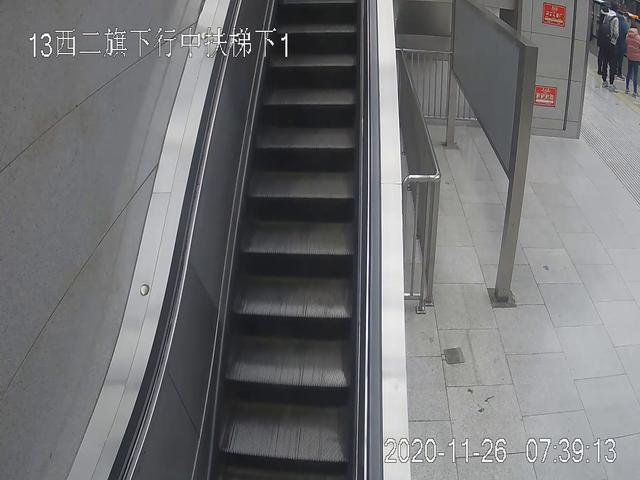person: (598, 6, 620, 93), (622, 23, 640, 94)
